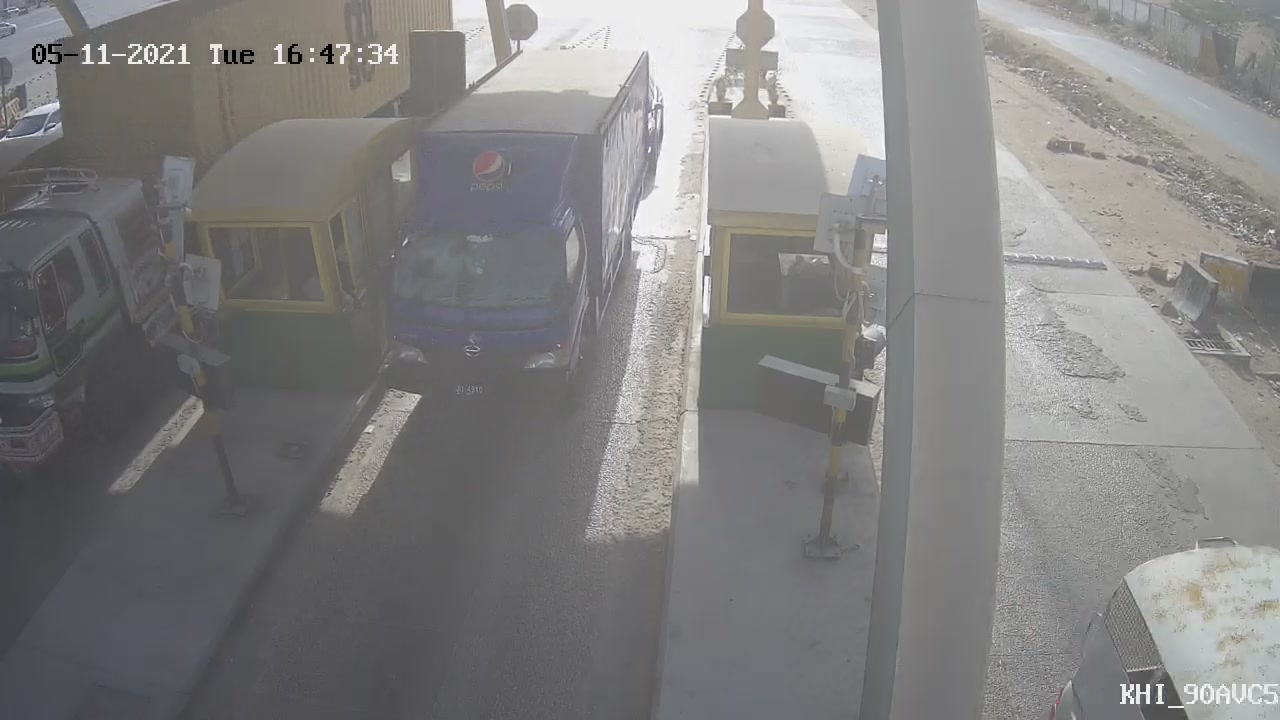F5: (326, 21, 690, 433)
